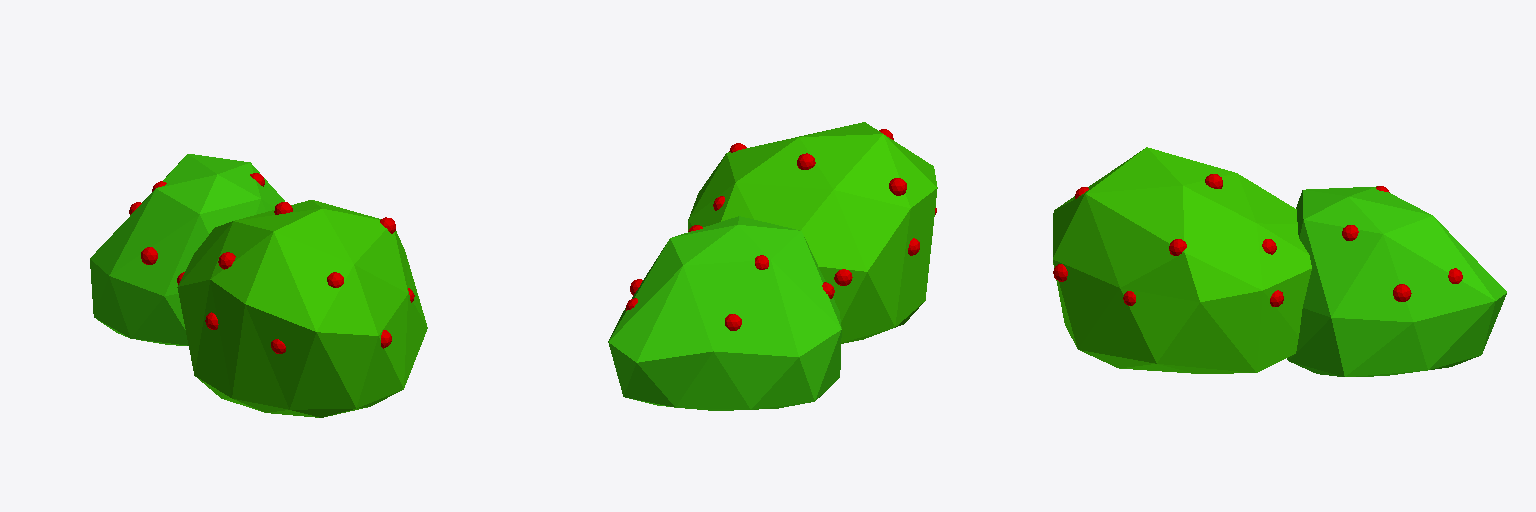
The picture shows the model from 3 angles: view 1: azimuth 30°, elevation 25°; view 2: azimuth 150°, elevation 25°; view 3: azimuth 270°, elevation 25°; orthographic projection.
Visible parts, largest first — view 1: Esfera_geodésica, Esta_no_Esfera_geodésica.011; view 2: Esta_no_Esfera_geodésica.011, Esfera_geodésica; view 3: Esfera_geodésica, Esta_no_Esfera_geodésica.011.
Part boxes in pixels (left/top/right/bottom): Esfera_geodésica: left=177, top=200, right=427, bottom=417; Esta_no_Esfera_geodésica.011: left=90, top=154, right=284, bottom=345; Esta_no_Esfera_geodésica.011: left=608, top=216, right=841, bottom=410; Esfera_geodésica: left=688, top=122, right=937, bottom=343; Esfera_geodésica: left=1053, top=147, right=1311, bottom=373; Esta_no_Esfera_geodésica.011: left=1287, top=186, right=1506, bottom=376.
Size of the model in its own units: 0.8918 by 0.6573 by 1.59.
Materials: 4 (1 with a texture image).